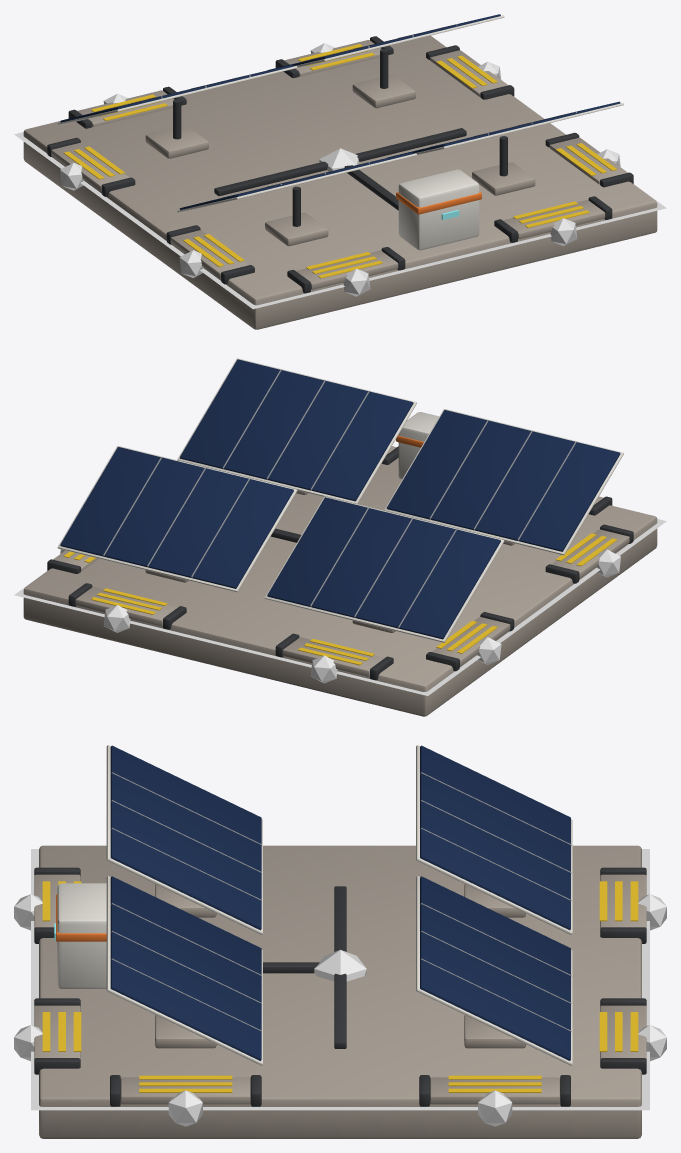
Rendered from solar_array_2x2.gltf.
3 views of the same model, one above another, from view 1: azimuth 30°, elevation 25°; view 2: azimuth 150°, elevation 25°; view 3: azimuth 270°, elevation 25° (orthographic). The views are drawn at different scales.
Parts seen in each view (by area): view 1: SolarArray, %P%Footprint, %V%AnchorOut.007+, %V%AnchorOut.006+, %V%AnchorOut.002+, %V%AnchorOut.003+, %V%AnchorOut+, %V%AnchorOut.001+, %V%AnchorOut.004+, %V%AnchorOut.005+, %P%AnchorOut.006, %P%AnchorOut.007 (+3 smaller); view 2: SolarArray, %P%Footprint, %V%AnchorOut.004+, %V%AnchorOut.005+, %V%AnchorOut.003+, %V%AnchorOut.002+, %V%AnchorOut.001+, %P%AnchorOut.004, %P%AnchorOut.005; view 3: SolarArray, %P%Footprint, %V%AnchorOut+, %V%AnchorOut.001+, %V%AnchorOut.005+, %V%AnchorOut.007+, %V%AnchorOut.004+, %V%AnchorOut.006+, %P%Center, %P%AnchorOut, %P%AnchorOut.001, %P%AnchorOut.005 (+3 smaller).
Boxes of the visible parts, bbox=[...] form: SolarArray: bbox=[23, 14, 657, 329]; %P%Footprint: bbox=[14, 36, 666, 309]; %V%AnchorOut.007+: bbox=[494, 196, 612, 242]; %V%AnchorOut.006+: bbox=[287, 247, 405, 293]; %V%AnchorOut.002+: bbox=[166, 225, 254, 284]; %V%AnchorOut.003+: bbox=[47, 137, 135, 196]; %V%AnchorOut+: bbox=[545, 132, 633, 187]; %V%AnchorOut.001+: bbox=[426, 45, 514, 99]; %V%AnchorOut.004+: bbox=[68, 86, 186, 128]; %V%AnchorOut.005+: bbox=[275, 36, 393, 78]; %P%AnchorOut.006: bbox=[343, 268, 370, 296]; %P%AnchorOut.007: bbox=[550, 218, 577, 245]; SolarArray: bbox=[23, 358, 657, 716]; %P%Footprint: bbox=[14, 519, 666, 695]; %V%AnchorOut.004+: bbox=[275, 633, 393, 680]; %V%AnchorOut.005+: bbox=[68, 583, 186, 629]; %V%AnchorOut.003+: bbox=[426, 612, 514, 671]; %V%AnchorOut.002+: bbox=[545, 524, 633, 583]; %V%AnchorOut.001+: bbox=[47, 550, 98, 573]; %P%AnchorOut.004: bbox=[310, 655, 337, 683]; %P%AnchorOut.005: bbox=[103, 605, 130, 632]; SolarArray: bbox=[39, 745, 641, 1138]; %P%Footprint: bbox=[31, 849, 649, 1110]; %V%AnchorOut+: bbox=[110, 1075, 261, 1106]; %V%AnchorOut.001+: bbox=[419, 1075, 570, 1106]; %V%AnchorOut.005+: bbox=[599, 998, 646, 1074]; %V%AnchorOut.007+: bbox=[34, 998, 81, 1074]; %V%AnchorOut.004+: bbox=[599, 867, 646, 943]; %V%AnchorOut.006+: bbox=[34, 867, 81, 943]; %P%Center: bbox=[314, 950, 366, 981]; %P%AnchorOut: bbox=[168, 1090, 202, 1126]; %P%AnchorOut.001: bbox=[478, 1090, 512, 1126]; %P%AnchorOut.005: bbox=[638, 1025, 666, 1061].
Bounding box in the file's own units: 4.23 × 1.05 × 4.22.
